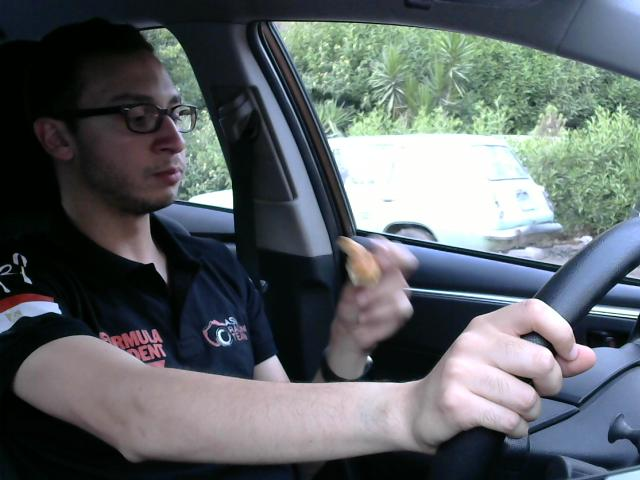Eating: (324, 218, 385, 291)
